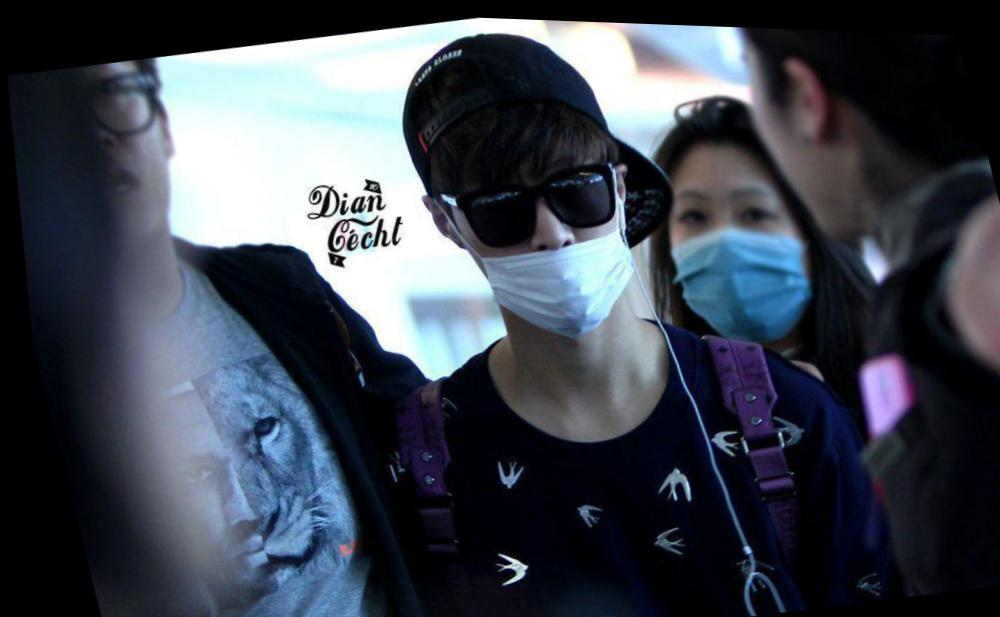NONE: (5, 53, 192, 260)
OK: (651, 159, 823, 324)
WRONG: (451, 143, 646, 332)
